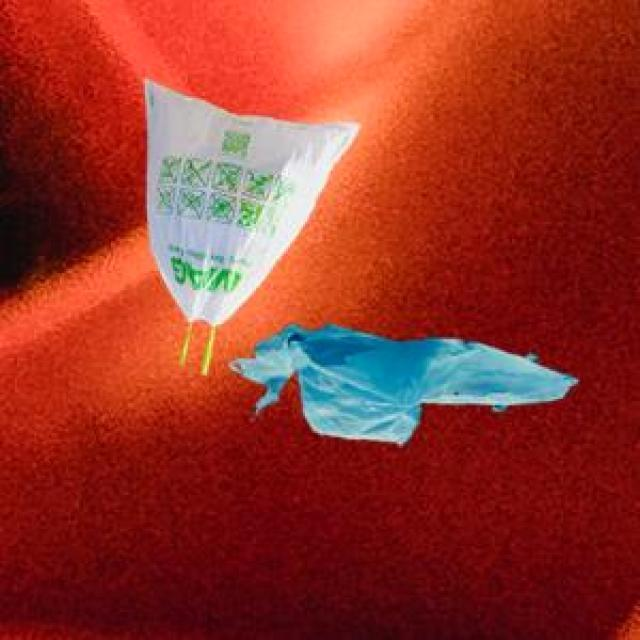Plastic_Bag: (142, 76, 358, 370), (231, 321, 575, 443)
